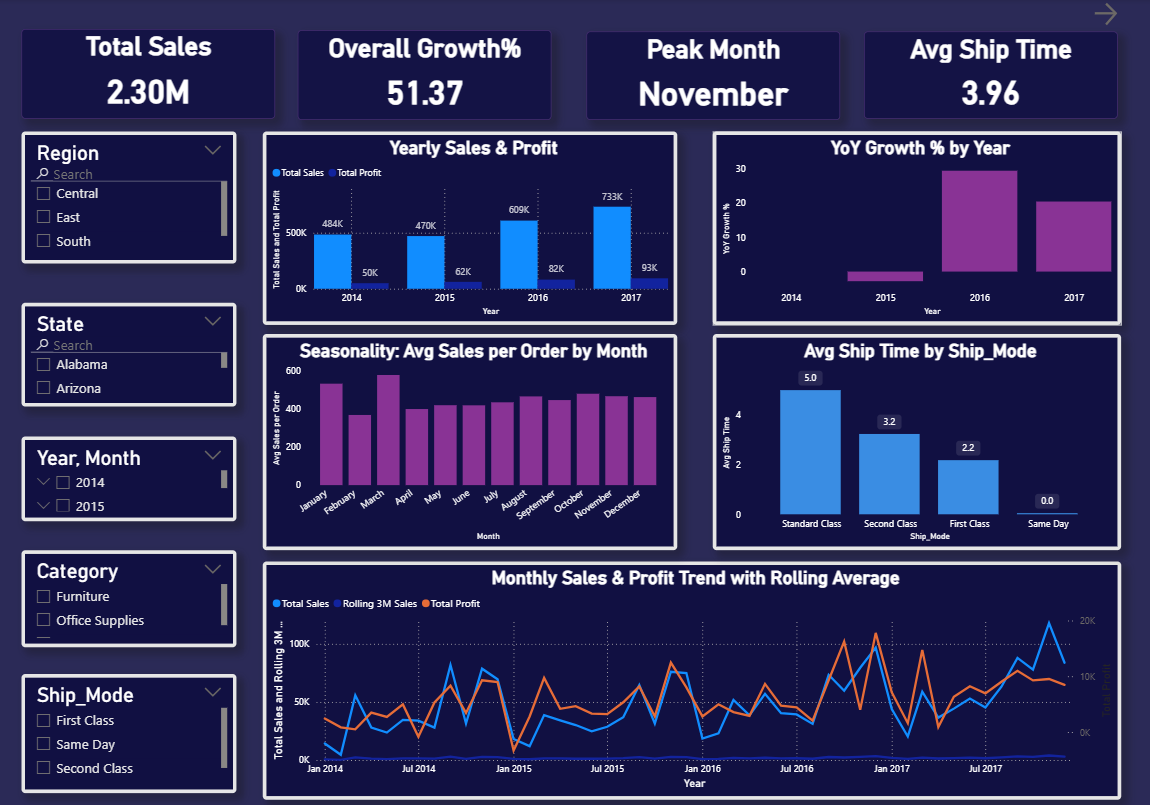

This screenshot's page, from the dashboard's own definition file:
{"tool":"powerbi","page":{"name":"Time Series Dashboard","canvas":[1500,1050],"ordinal":3},"visuals":[{"type":"card","title":"Total Sales","fields":{"Values":["Table2.Total Sales"]},"box":[30,38.3,330,116.7],"z":0},{"type":"card","title":"Overall Growth%","fields":{"Values":["Table2.Overall Growth %"]},"box":[390,40,330,116.7],"z":1000},{"type":"card","title":"Peak Month","fields":{"Values":["Table2.Peak Month"]},"box":[765,41.7,330,115],"z":2000},{"type":"card","title":"Avg Ship Time","fields":{"Values":["Table2.Avg Ship Time"]},"box":[1126.7,41.7,330,113.3],"z":3000},{"type":"lineChart","title":"Monthly Sales & Profit Trend with Rolling Average","fields":{"Y":["Table2.Total Sales","Table2.Rolling 3M Sales"],"Category":["Table2.Order_Date.Variation.Date Hierarchy.Year","Table2.Order_Date.Variation.Date Hierarchy.Month"],"Y2":["Table2.Total Profit"]},"box":[343.3,733.3,1118.3,310],"z":4000},{"type":"clusteredColumnChart","title":"Yearly Sales & Profit","fields":{"Category":["Table2.Order_Date.Variation.Date Hierarchy.Year"],"Y":["Table2.Total Sales","Table2.Total Profit"]},"box":[343.3,173.3,540,251.7],"z":5000},{"type":"clusteredColumnChart","fields":{"Category":["Table2.Order_Date.Variation.Date Hierarchy.Year"],"Y":["Table2.YoY Growth %"]},"box":[930,173.3,531.7,251.7],"z":6000},{"type":"clusteredColumnChart","title":"Seasonality: Avg Sales per Order by Month","fields":{"Category":["Table2.Order_Date.Variation.Date Hierarchy.Month"],"Y":["Table2.Avg Sales per Order"]},"box":[343.3,436.7,540,281.7],"z":7000},{"type":"clusteredColumnChart","fields":{"Category":["Table2.Ship_Mode"],"Y":["Table2.Avg Ship Time"]},"box":[930,436.7,531.7,281.7],"z":8000},{"type":"slicer","fields":{"Values":["Table2.Region"]},"box":[30,173.3,280,171.7],"z":9000},{"type":"slicer","fields":{"Values":["Table2.State"]},"box":[30,395,280,135],"z":10000},{"type":"slicer","fields":{"Values":["Table2.Order_Date.Variation.Date Hierarchy.Year","Table2.Order_Date.Variation.Date Hierarchy.Month"]},"box":[30,570,280,110],"z":11000},{"type":"slicer","fields":{"Values":["Table2.Category"]},"box":[30,718.3,280,126.7],"z":12000},{"type":"slicer","fields":{"Values":["Table2.Ship_Mode"]},"box":[30,880,280,155],"z":13000},{"type":"actionButton","box":[1421.1,0,51.2,39.2],"z":14000}]}

Visuals, with their boxes in screenshot pixels (x1, y1, x2, y2), scaled from the page's 1500x1050 canvas onto the 1150x805 screenshot:
"Total Sales" card: bbox=(23, 29, 276, 119)
"Overall Growth%" card: bbox=(299, 31, 552, 120)
"Peak Month" card: bbox=(586, 32, 840, 120)
"Avg Ship Time" card: bbox=(864, 32, 1117, 119)
"Monthly Sales & Profit Trend with Rolling Average" lineChart: bbox=(263, 562, 1121, 800)
"Yearly Sales & Profit" clusteredColumnChart: bbox=(263, 133, 677, 326)
clusteredColumnChart - Table2.Order_Date.Variation.Date Hierarchy.Year x Table2.YoY Growth %: bbox=(713, 133, 1121, 326)
"Seasonality: Avg Sales per Order by Month" clusteredColumnChart: bbox=(263, 335, 677, 551)
clusteredColumnChart - Table2.Ship_Mode x Table2.Avg Ship Time: bbox=(713, 335, 1121, 551)
slicer - Table2.Region: bbox=(23, 133, 238, 264)
slicer - Table2.State: bbox=(23, 303, 238, 406)
slicer - Table2.Order_Date.Variation.Date Hierarchy.Year x Table2.Order_Date.Variation.Date Hierarchy.Month: bbox=(23, 437, 238, 521)
slicer - Table2.Category: bbox=(23, 551, 238, 648)
slicer - Table2.Ship_Mode: bbox=(23, 675, 238, 794)
actionButton: bbox=(1090, 0, 1129, 30)
